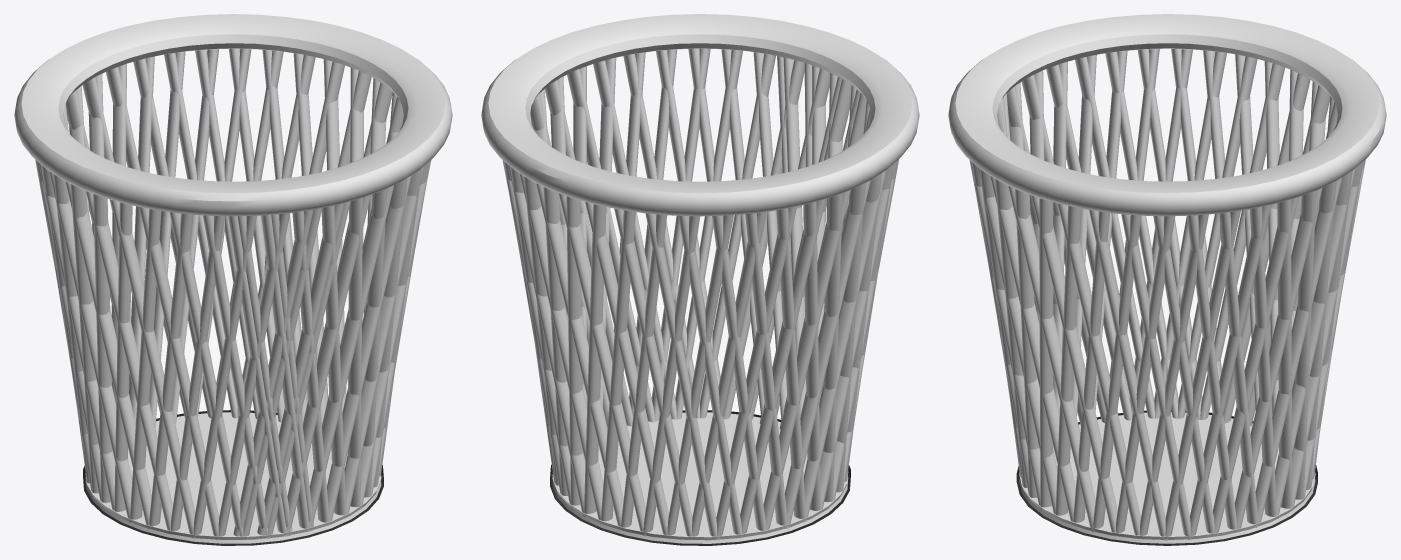
Rendered from trashcan_wire.fbx.
The picture shows the model from 3 angles, left to right: view 1: azimuth 30°, elevation 25°; view 2: azimuth 150°, elevation 25°; view 3: azimuth 270°, elevation 25°; orthographic projection.
Parts seen in each view (by area): view 1: pencil_cup; view 2: pencil_cup; view 3: pencil_cup.
Boxes of the visible parts, bbox=[...] form: pencil_cup: bbox=[14, 14, 452, 545]; pencil_cup: bbox=[481, 14, 919, 545]; pencil_cup: bbox=[948, 14, 1386, 545].
Bounding box in the file's own units: 3.82 × 3.64 × 3.82.
2 materials, 1 textured.
